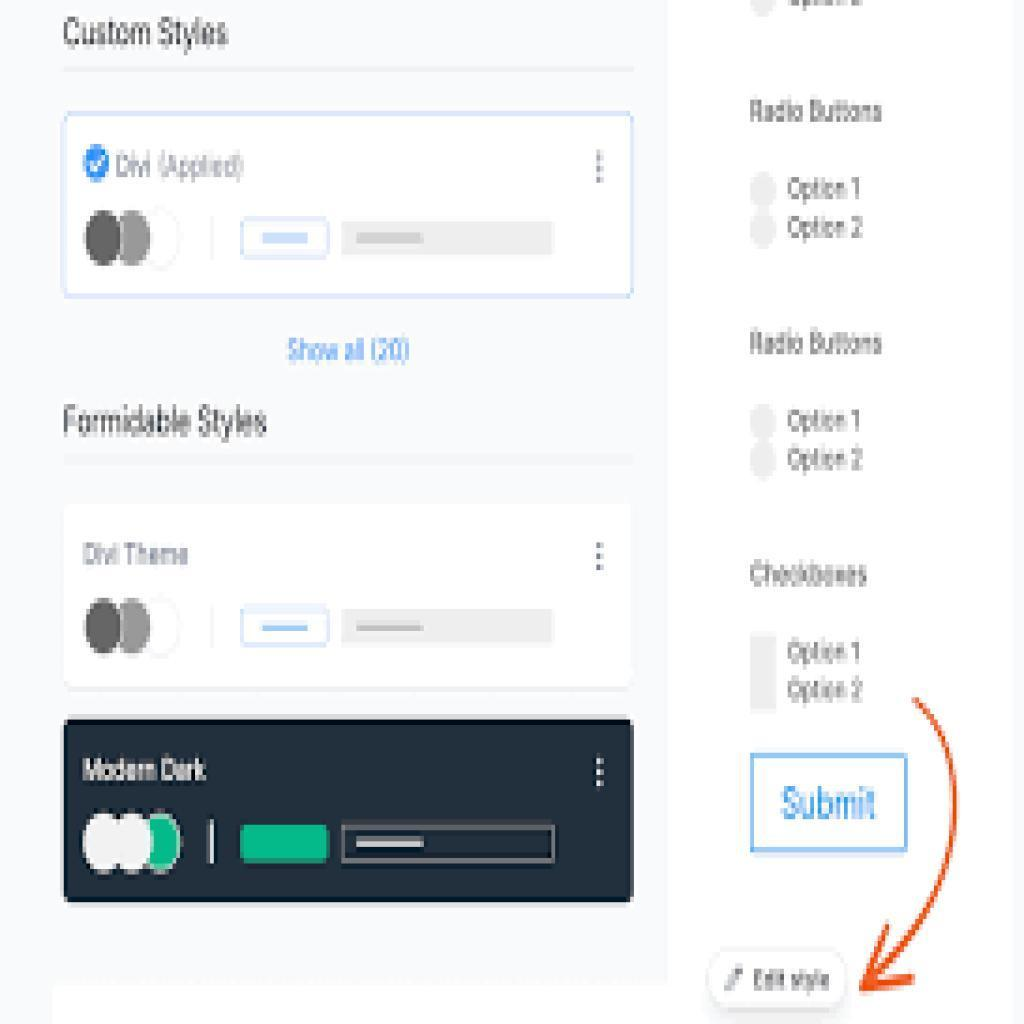button: (752, 754, 907, 853), (342, 605, 555, 649), (708, 951, 848, 1014), (345, 828, 558, 868), (341, 221, 555, 260), (242, 605, 328, 648), (242, 218, 328, 259), (241, 827, 328, 865)
checkbox: (752, 631, 779, 672), (754, 673, 778, 712)
icon: (587, 148, 614, 195), (590, 537, 614, 576), (591, 755, 612, 798)
label: (745, 320, 897, 363), (751, 91, 890, 131), (751, 554, 876, 593), (781, 675, 876, 712), (784, 637, 872, 675), (788, 172, 873, 209), (788, 404, 872, 438), (785, 447, 870, 480), (787, 213, 872, 244)
radio: (82, 140, 114, 187), (750, 442, 780, 482), (751, 212, 780, 252), (750, 404, 780, 440), (748, 172, 777, 208)
